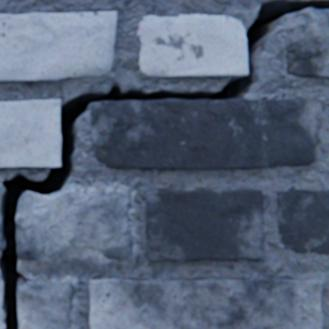brick: (86, 98, 321, 169), (89, 278, 321, 328), (145, 189, 262, 260), (0, 12, 116, 81), (137, 15, 246, 77), (0, 100, 61, 167), (276, 190, 328, 254), (283, 8, 328, 77)
broken_brick: (16, 190, 131, 260), (17, 277, 72, 328), (0, 269, 5, 328), (0, 184, 4, 249)
crack: (0, 0, 328, 328)
